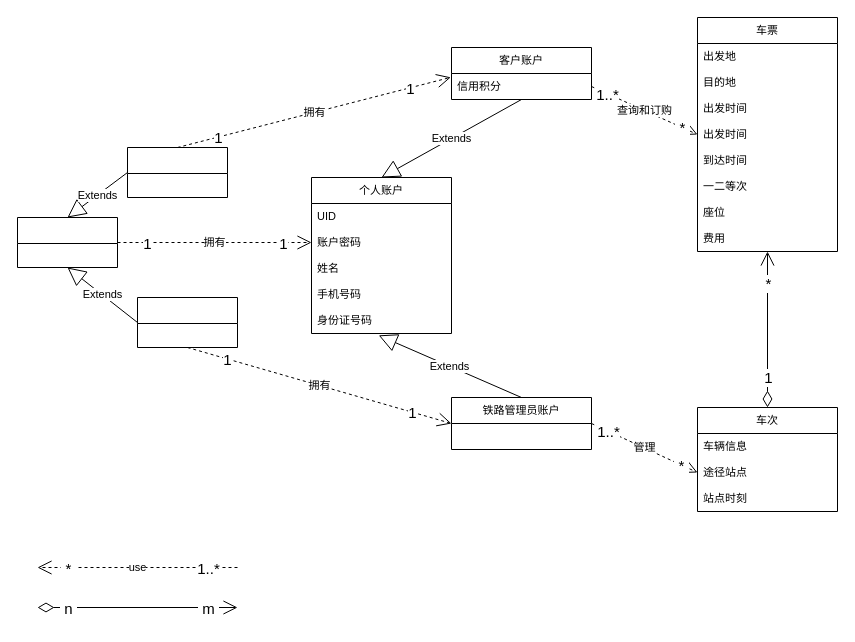
Image size: 855x642. Some labels were removed from this diagram. Here are the shapes that lost their labels. From the top down, the centre of each, then its label:
(177,172): 客户
(67,242): 用户
(187,322): 铁路管理员
